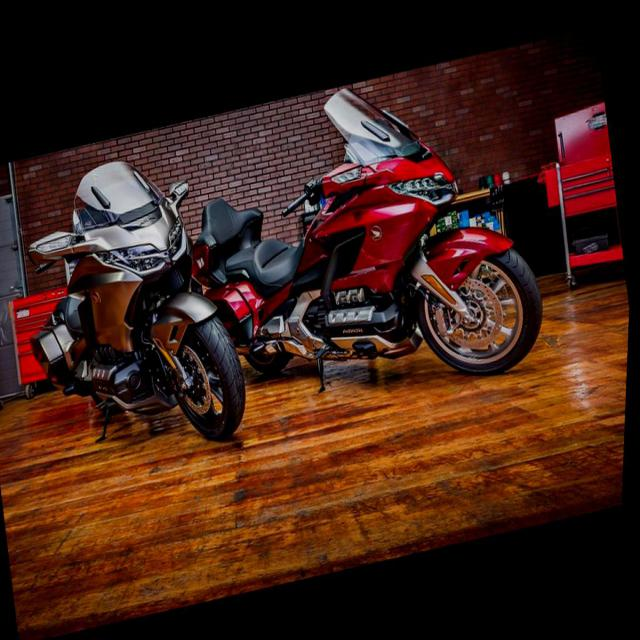Gold Wing: (169, 29, 561, 452), (2, 126, 263, 487)
